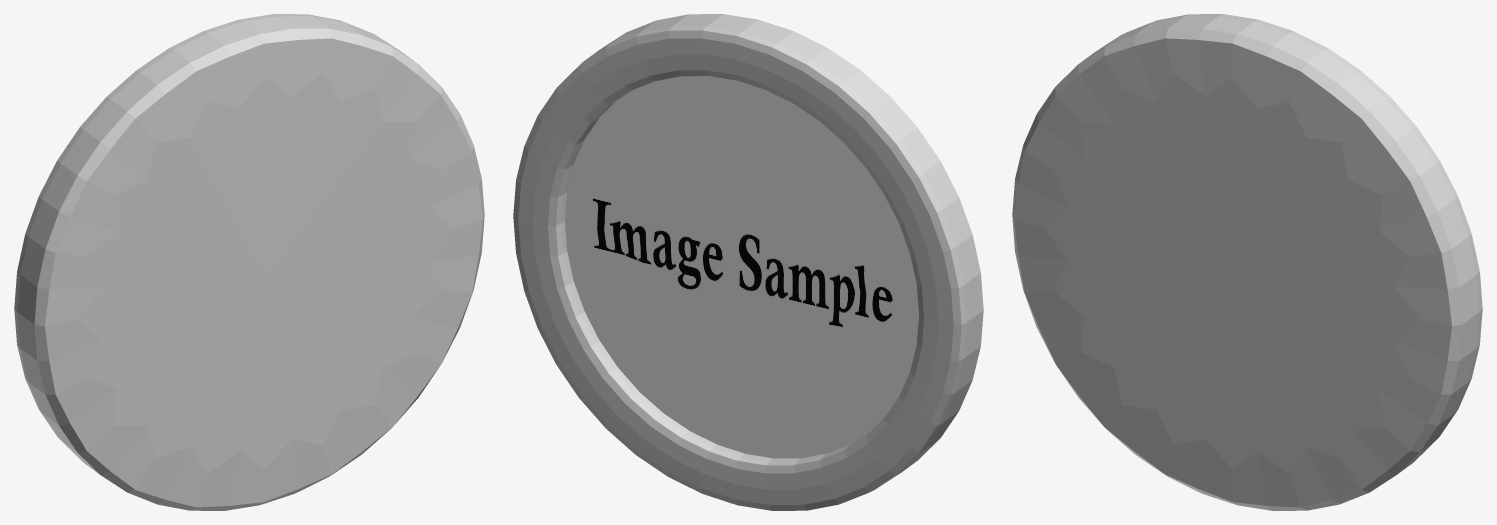
The model's file is clock.fbx.
3 renders of one model, left to right at view 1: azimuth 30°, elevation 25°; view 2: azimuth 150°, elevation 25°; view 3: azimuth 330°, elevation 25°, orthographic.
Parts seen in each view (by area): view 1: Cylinder.004; view 2: Plane.013, Cylinder.004; view 3: Cylinder.004.
Part boxes in pixels (x1,y1,x2,y2): Cylinder.004: (14, 14, 484, 510); Plane.013: (565, 76, 918, 458); Cylinder.004: (513, 14, 983, 510); Cylinder.004: (1012, 14, 1482, 510).
Size of the model in its own units: 79.8 by 79.8 by 8.94.
